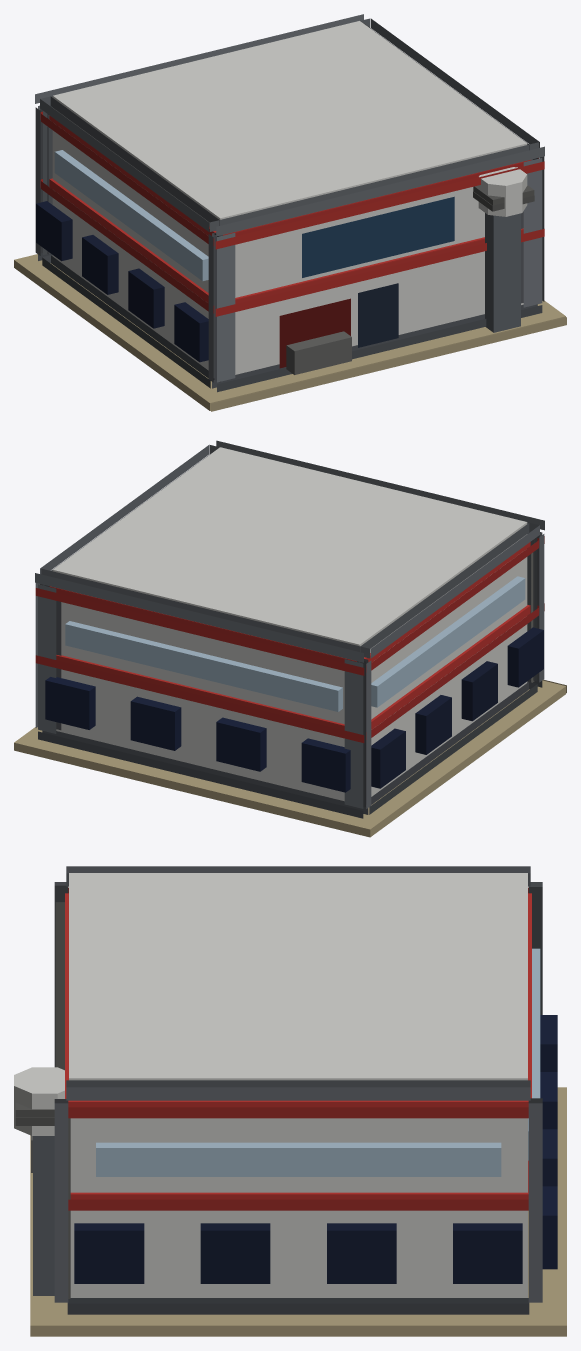
The model's file is DustDevilSil.fbx.
The picture shows the model from 3 angles, top to bottom: view 1: azimuth 30°, elevation 25°; view 2: azimuth 150°, elevation 25°; view 3: azimuth 270°, elevation 25°; orthographic projection. The views are drawn at different scales.
Parts seen in each view (by area): view 1: WX_S_All; view 2: WX_S_All; view 3: WX_S_All.
Boxes of the visible parts, box(x1,y1,x2,y2) form: WX_S_All: box(14, 14, 566, 411); WX_S_All: box(14, 440, 566, 837); WX_S_All: box(14, 866, 566, 1336).
Size of the model in its own units: 42.04 by 19.9 by 41.25.
